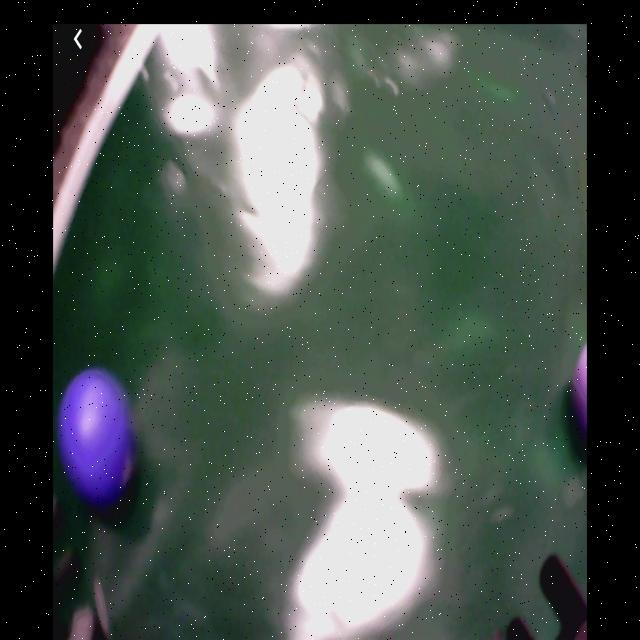ball: (59, 369, 135, 496), (569, 341, 588, 442)
